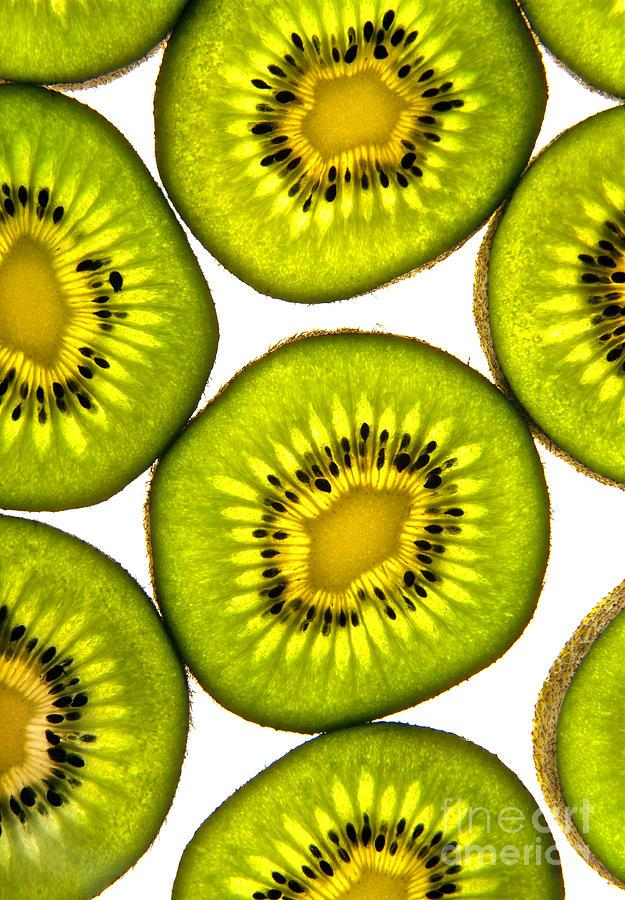kiwi: (137, 326, 538, 742), (149, 1, 546, 321), (7, 83, 227, 524), (164, 714, 575, 900), (7, 511, 189, 900), (464, 97, 625, 491)
